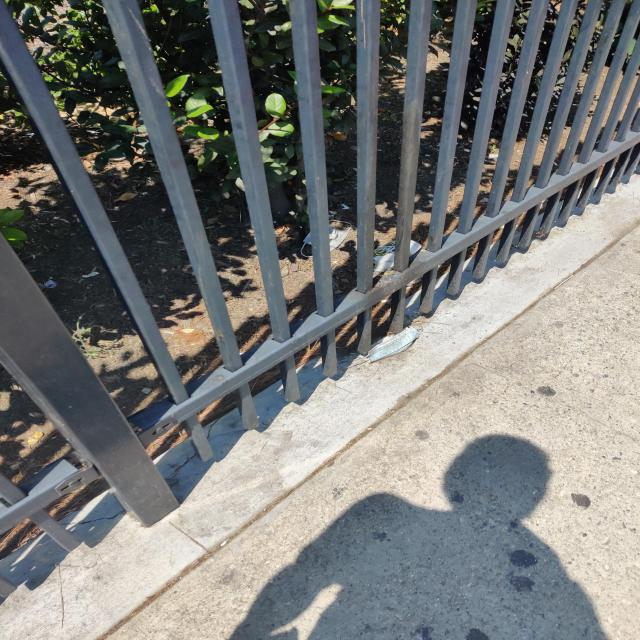litter: (348, 328, 416, 363), (305, 219, 353, 253)
